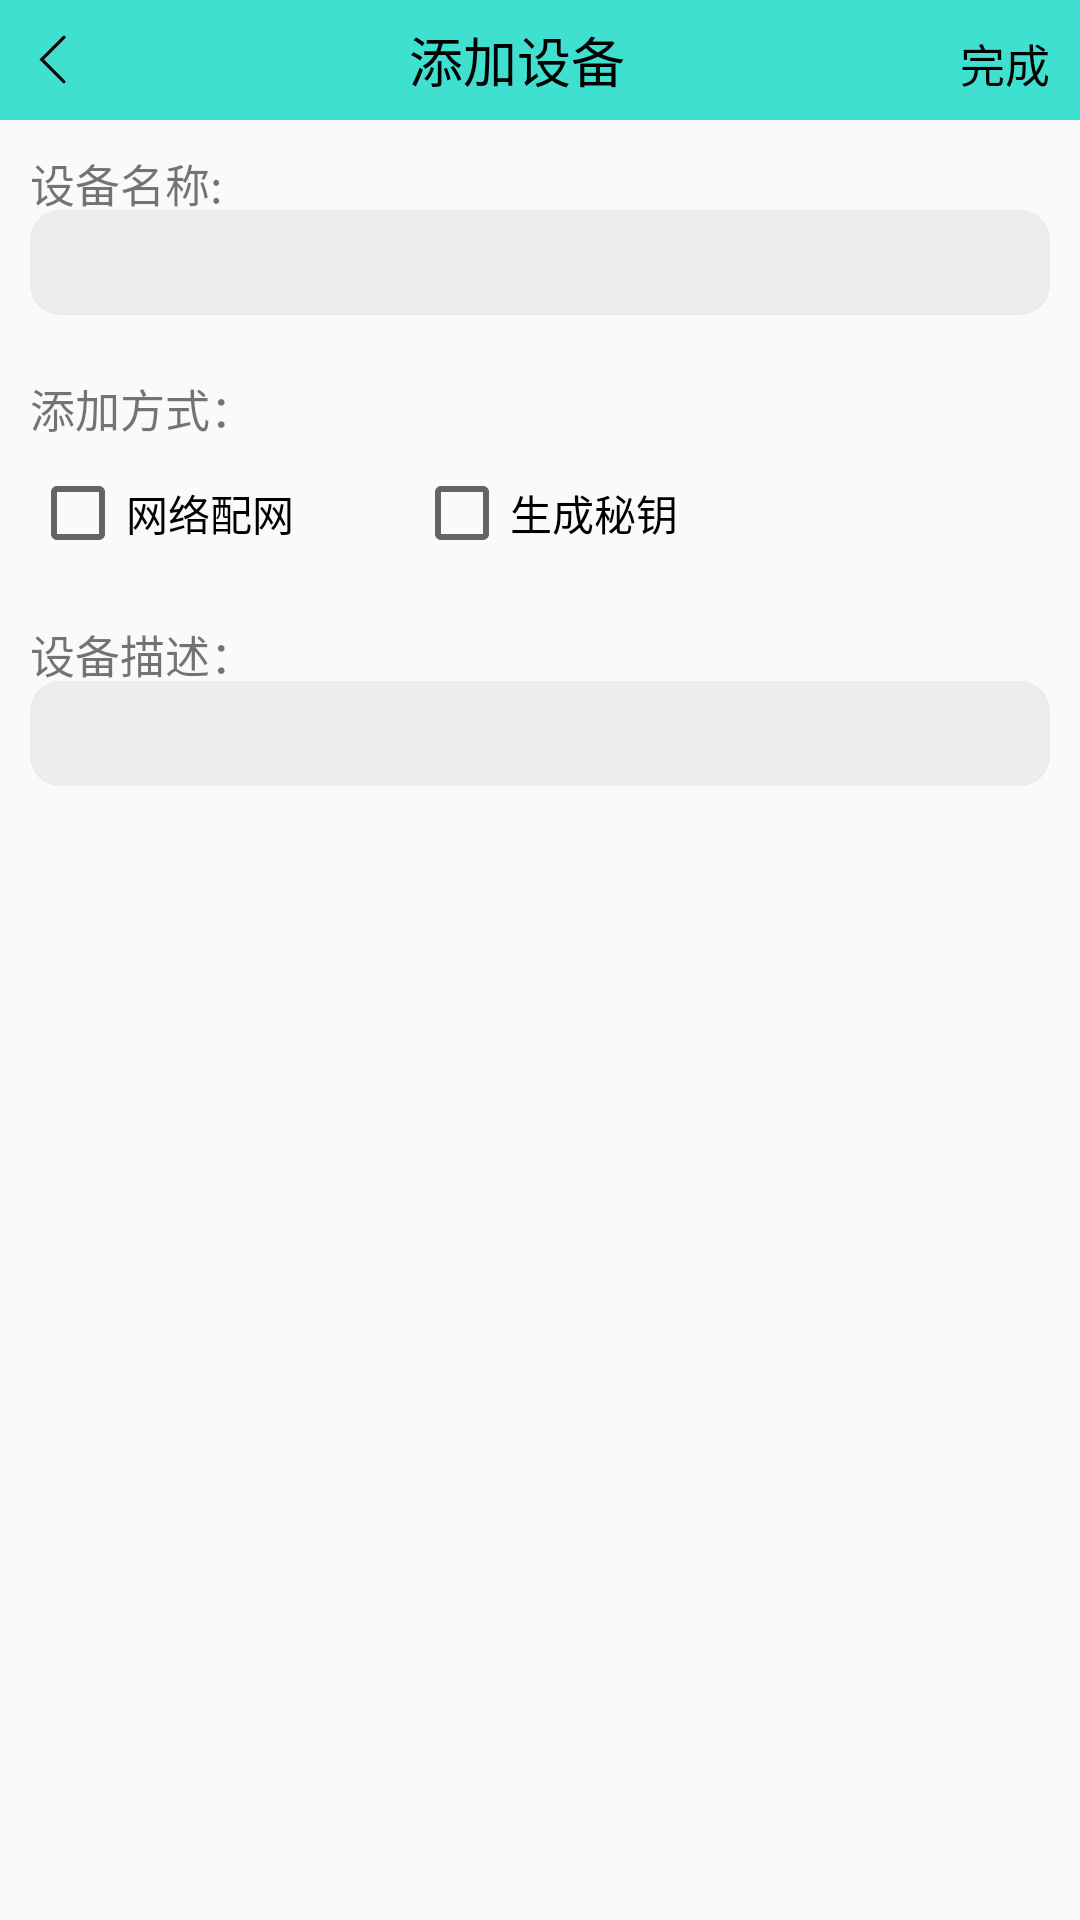

Locate icon controls on the screen. Image size 1080px x 1920px, boxes as (x1, y1, x2, y2).
return: (39, 35, 66, 84)
